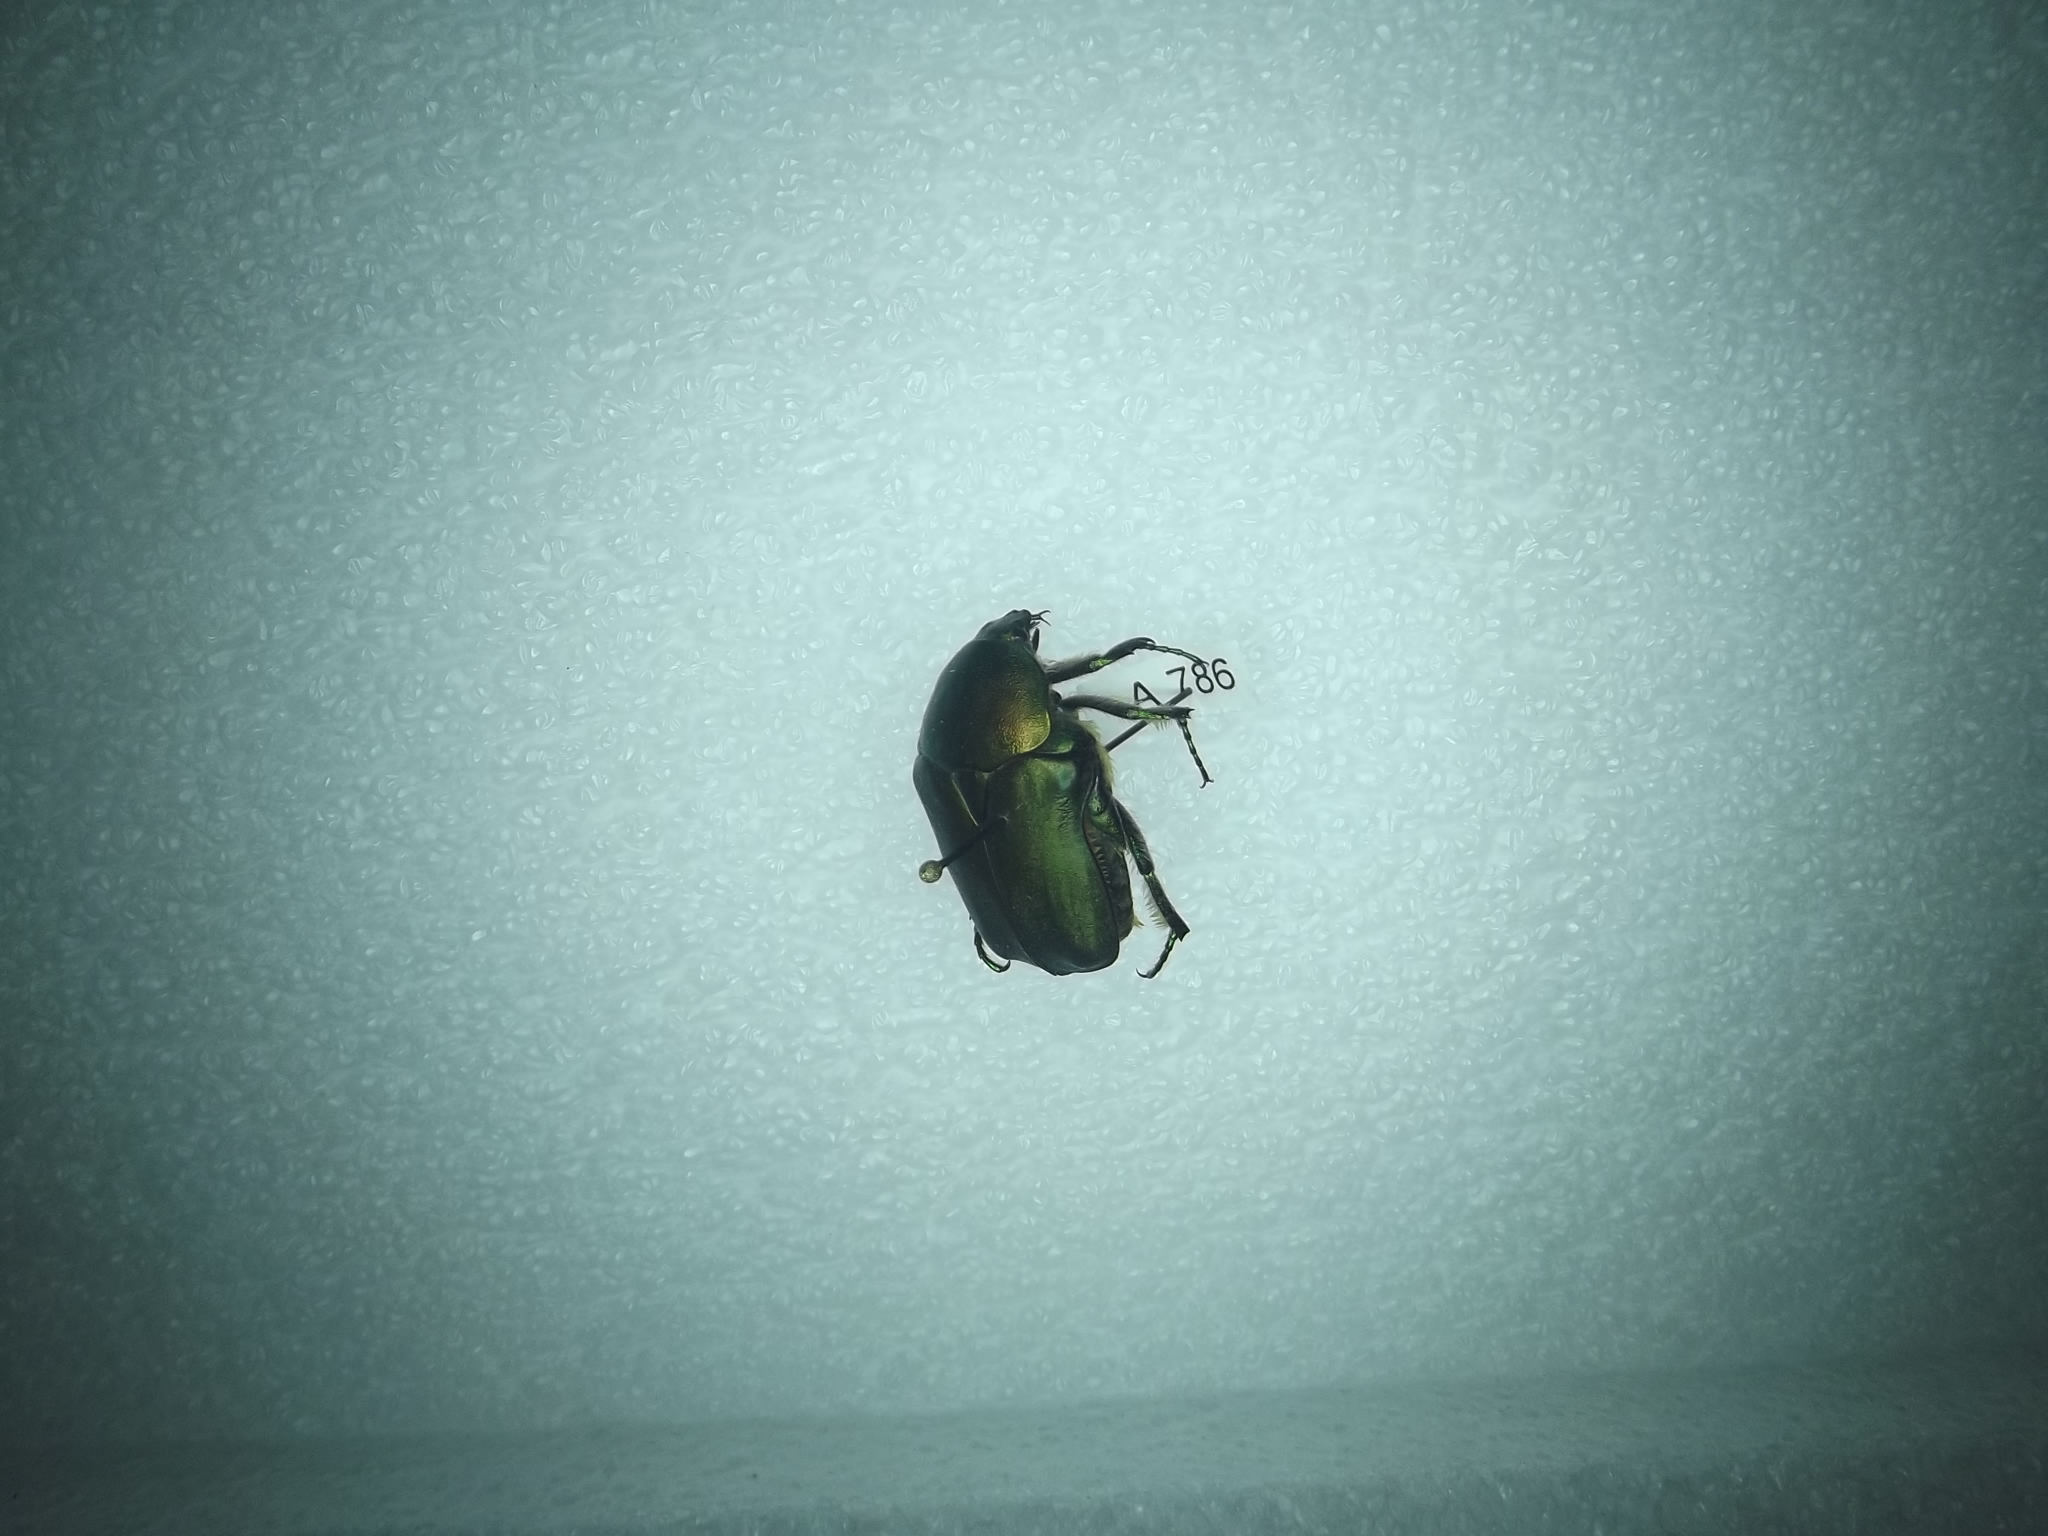Protaetia_ungarica_americana: (890, 563, 1238, 1000)
